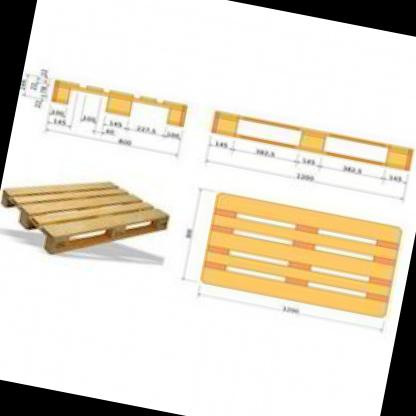BoxFace: (200, 190, 404, 326), (0, 180, 168, 256), (210, 111, 414, 170), (51, 75, 187, 129)
